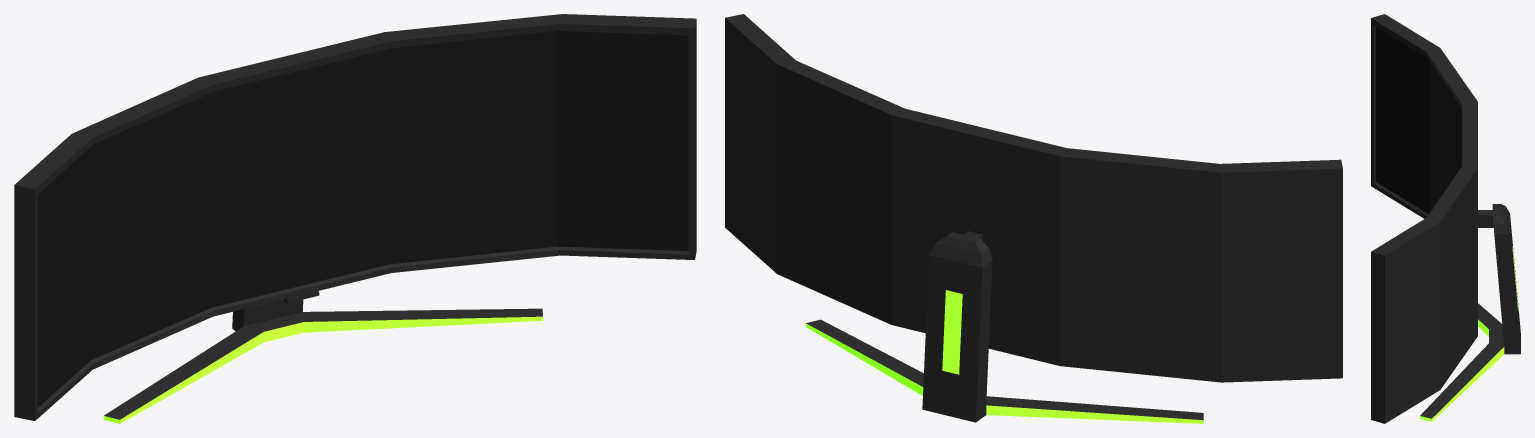
The model's file is electronics_pc-monitor-gaming.fbx.
3 renders of one model, left to right at view 1: azimuth 30°, elevation 25°; view 2: azimuth 150°, elevation 25°; view 3: azimuth 270°, elevation 25°, orthographic. The views are drawn at different scales.
Parts seen in each view (by area): view 1: electronics_pc_monitor_gaming; view 2: electronics_pc_monitor_gaming; view 3: electronics_pc_monitor_gaming.
Boxes of the visible parts, x1,y1,x2,y2 form: electronics_pc_monitor_gaming: [14, 14, 696, 423]; electronics_pc_monitor_gaming: [725, 14, 1342, 423]; electronics_pc_monitor_gaming: [1371, 14, 1520, 423].
Bounding box in the file's own units: 200 × 80.67 × 52.4.
